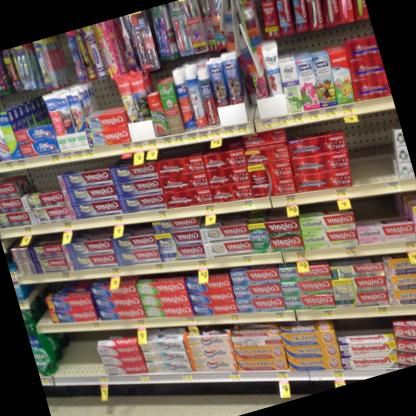empty_space: (349, 127, 397, 191), (61, 337, 100, 381), (56, 33, 79, 84)
